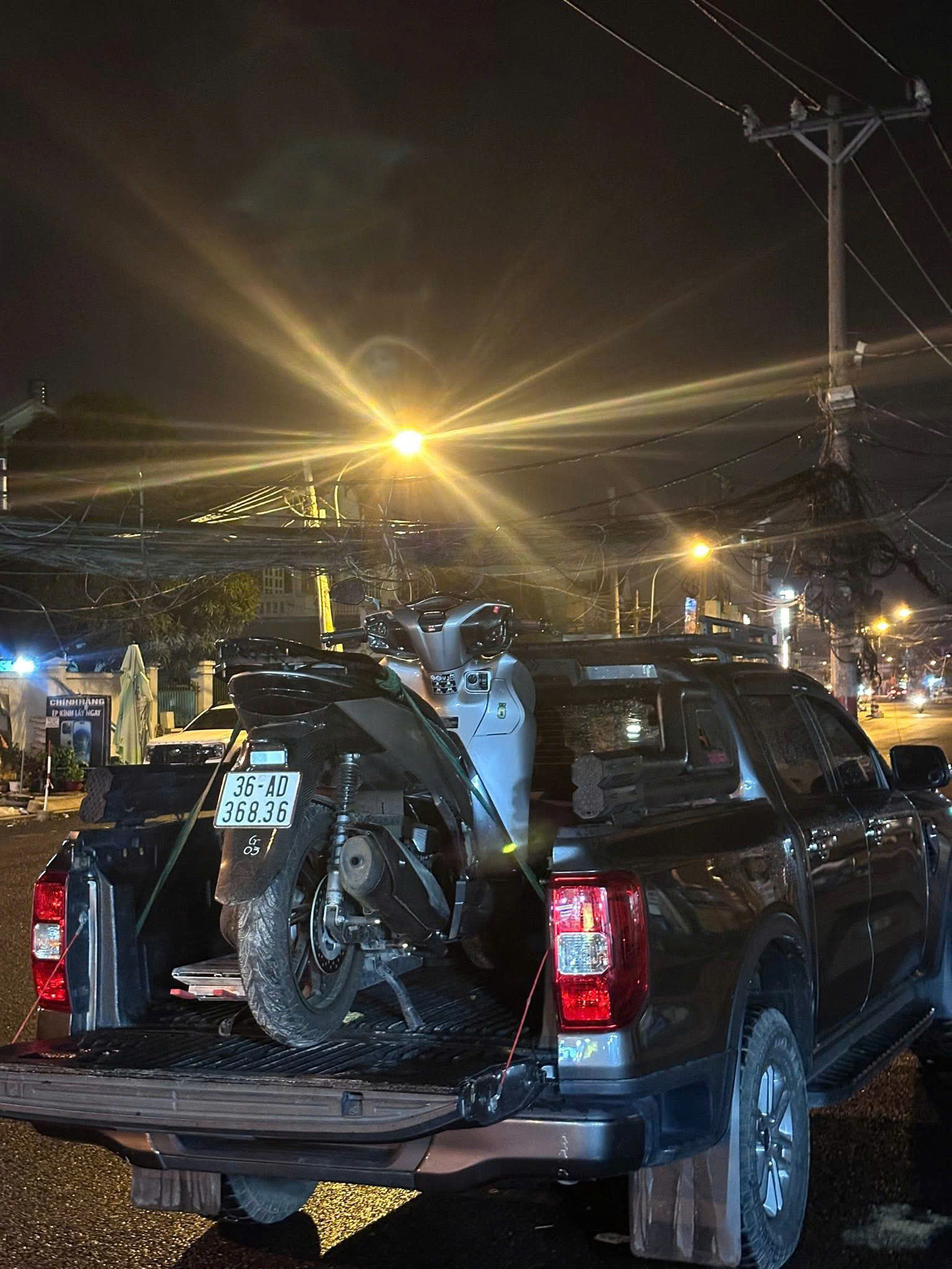Bien-so: (214, 769, 297, 824)
